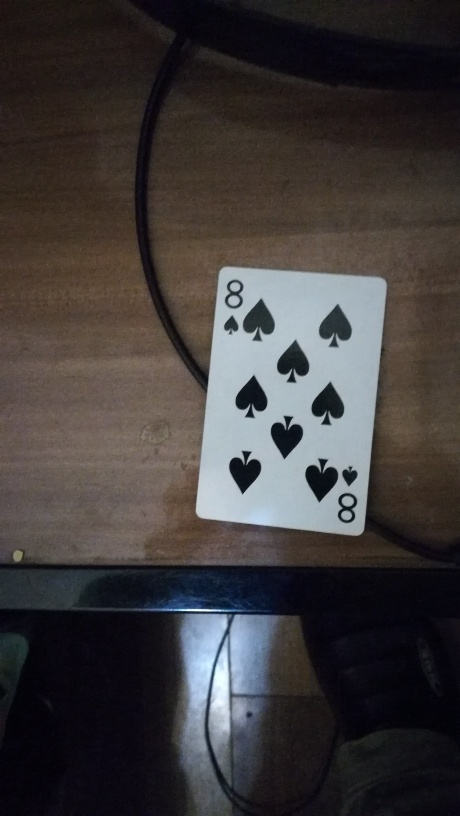ht 8: (196, 266, 390, 542)
